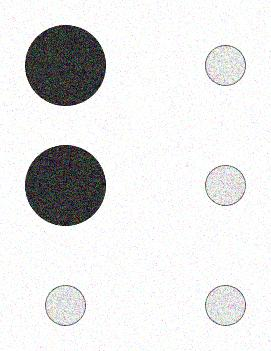B: (21, 19, 254, 333)
